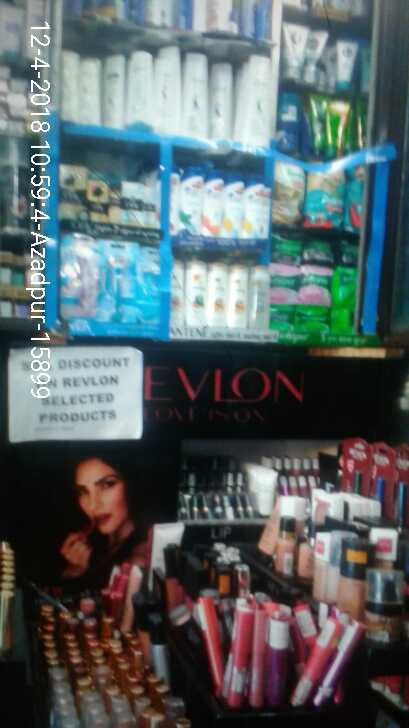venus: (61, 233, 100, 319), (100, 240, 138, 321), (138, 246, 159, 321)
